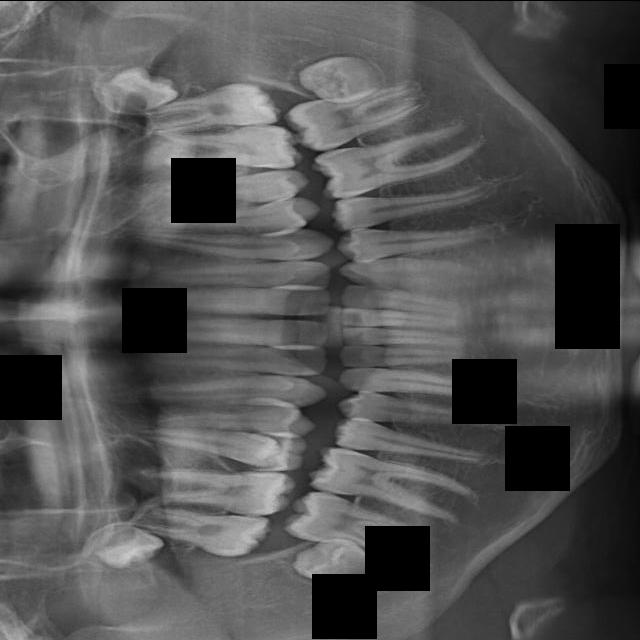3M ESPE Implant: (85, 508, 167, 577)
AGS Medikal Implant: (294, 132, 295, 132)
AMerOss Implant: (307, 117, 493, 204)
Amalgam filling: (131, 503, 273, 561)
Anthogyr Implant: (327, 175, 495, 233)
Bicon Implant: (334, 214, 505, 263)
BioHorizons Implant: (338, 256, 494, 292)
BioLife Implant: (339, 283, 463, 317)
Biomet 3i Implant: (339, 307, 458, 329)
Blue Sky Bio Implant: (340, 326, 463, 346)
Camlog Implant: (338, 344, 475, 369)
Caries: (153, 259, 332, 287)
Composite filling: (338, 365, 500, 398)
Cowellmedi Implant: (336, 387, 519, 441)
Crown: (332, 416, 501, 467)
DENTSPLY Implant: (138, 464, 298, 517)
Dentatus Implant: (304, 440, 485, 530)
Dentis Implant: (281, 487, 431, 561)
Dentium Implant: (289, 535, 378, 590)
Euroteknika Implant: (128, 422, 308, 472)
Filling: (150, 401, 316, 435)
Frontier Implant: (291, 375, 292, 375)
Hiossen Implant: (127, 228, 334, 261)
Implant: (137, 313, 329, 347)
Implant Direct: (141, 346, 328, 375)
Keystone Dental Implant: (118, 284, 331, 316)
MIS Implant: (153, 193, 323, 249)
Mandible: (146, 165, 312, 217)
Maxilla: (155, 124, 303, 171)
Megagen Implant: (143, 80, 281, 132)
Neodent Implant: (93, 51, 184, 122)
Neoss Implant: (294, 44, 385, 106)
